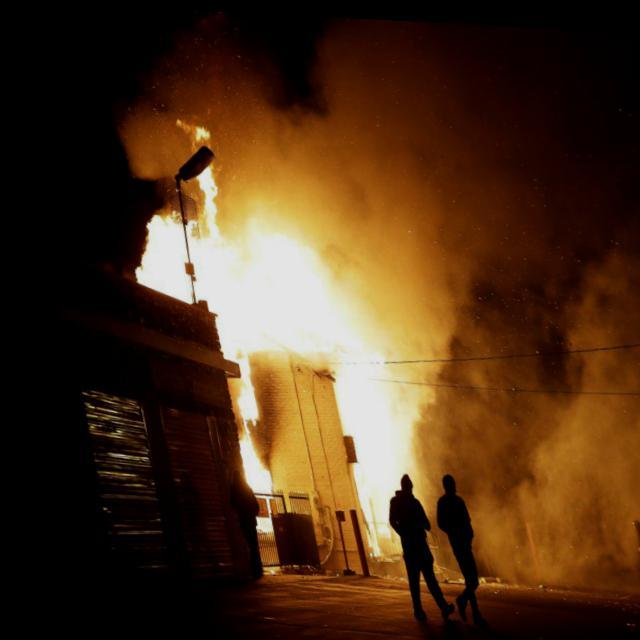Fire: (113, 172, 452, 530)
